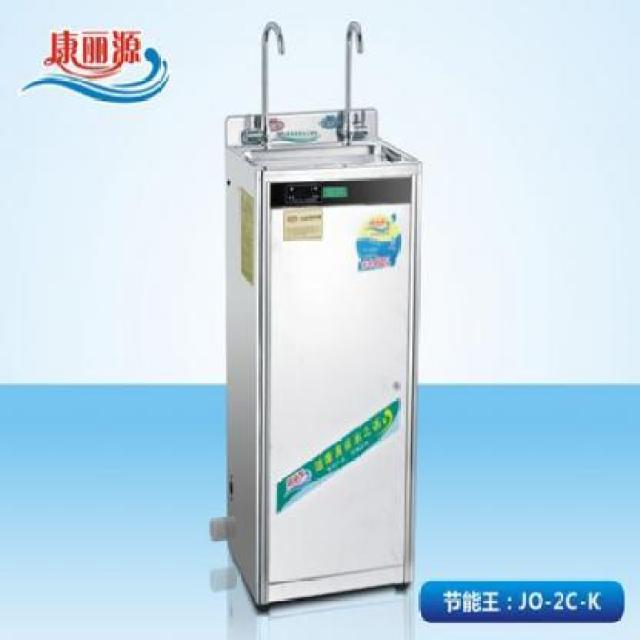cooler: (221, 13, 427, 614)
